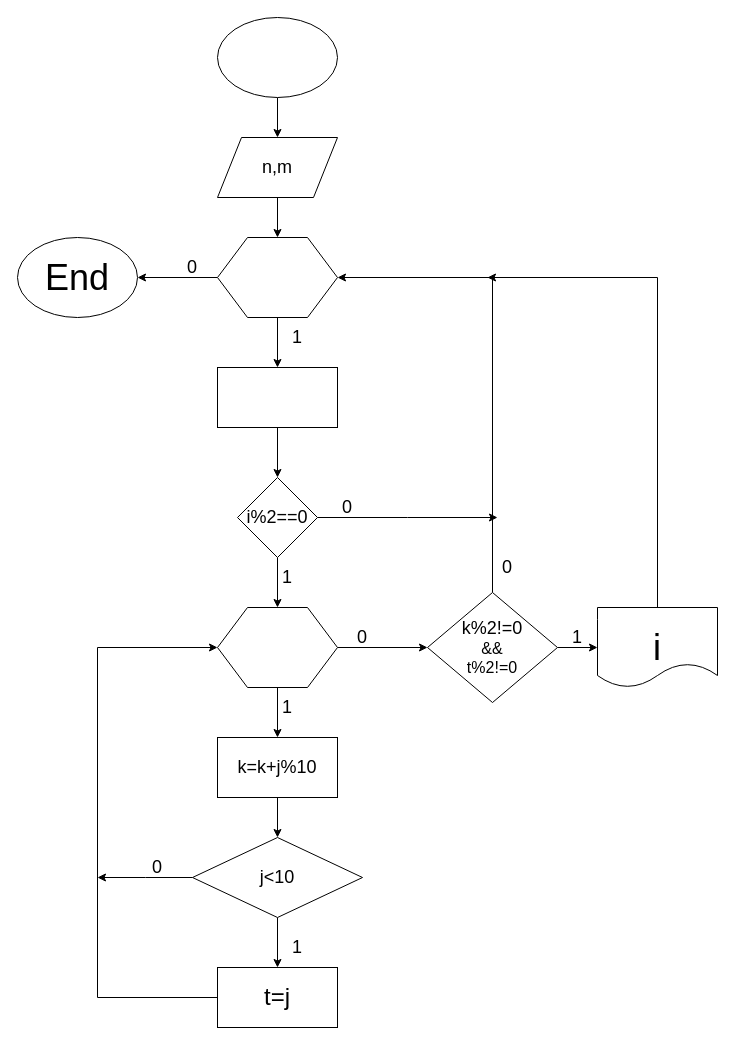
Some shapes in this 735 by 1045 pixel diagram are drawn without their labels. The shapes that lost their labels are listed below. From the top down, each one's box as (x1, y1, x2, y2) in pixels, then its label:
(216, 16, 338, 98): Begin
(216, 236, 338, 318): i=n;i<=m;i++
(216, 366, 338, 428): k=0 t=0
(216, 606, 338, 688): j=i;j>0;j=j/10
